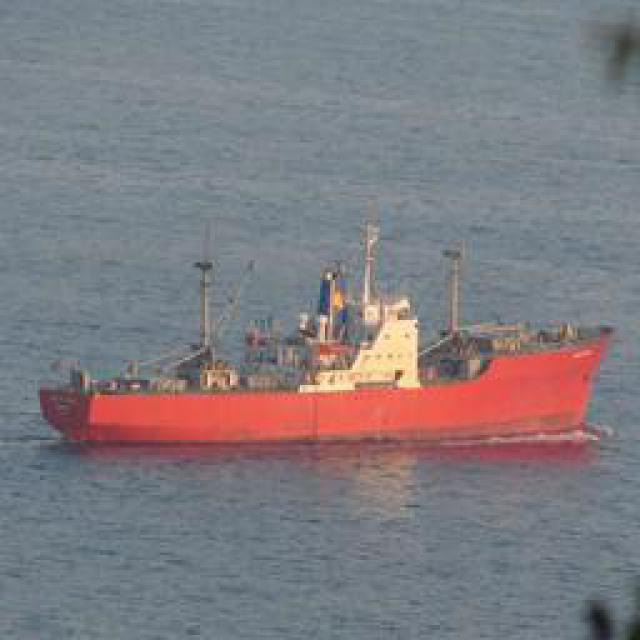Ship: (33, 219, 618, 449)
